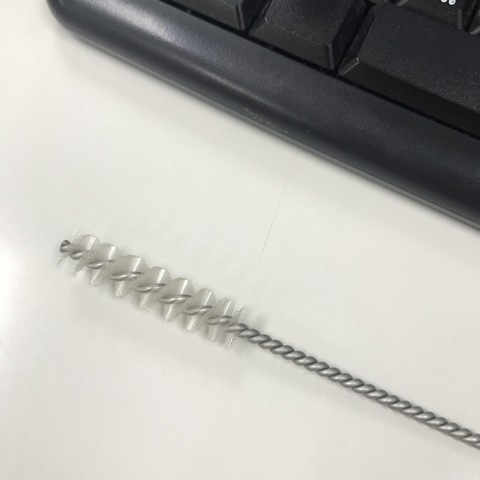Twist Brush-B: (54, 229, 480, 449)
